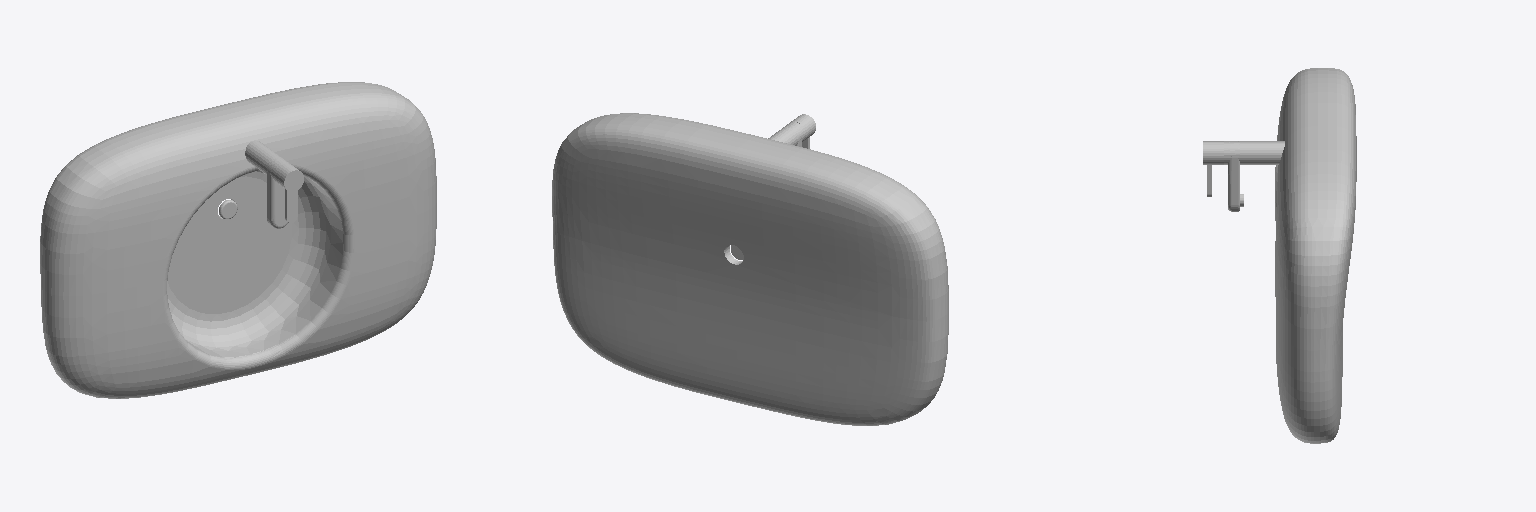
Rendered from sink.obj.
The picture shows the model from 3 angles: view 1: azimuth 30°, elevation 25°; view 2: azimuth 150°, elevation 25°; view 3: azimuth 270°, elevation 25°; orthographic projection.
Visible parts, largest first — view 1: Body1, Body5, Body4, Body3; view 2: Body1; view 3: Body1, Body3, Body4, Body5.
Boxes of the visible parts, box(x1,y1,x2,y2) form: Body1: box(40, 82, 436, 398); Body5: box(274, 163, 303, 222); Body4: box(267, 157, 288, 228); Body3: box(245, 140, 288, 181); Body1: box(552, 113, 948, 425); Body1: box(1275, 68, 1356, 443); Body3: box(1224, 141, 1284, 164); Body4: box(1228, 141, 1243, 211); Body5: box(1203, 141, 1223, 196).
Bounding box in the file's own units: 546 × 350 × 187.